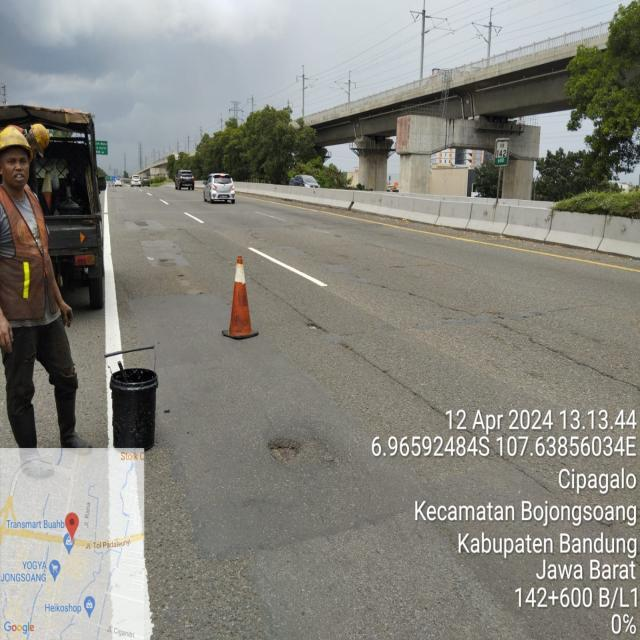Buraco: (264, 436, 305, 468), (304, 322, 324, 332)
